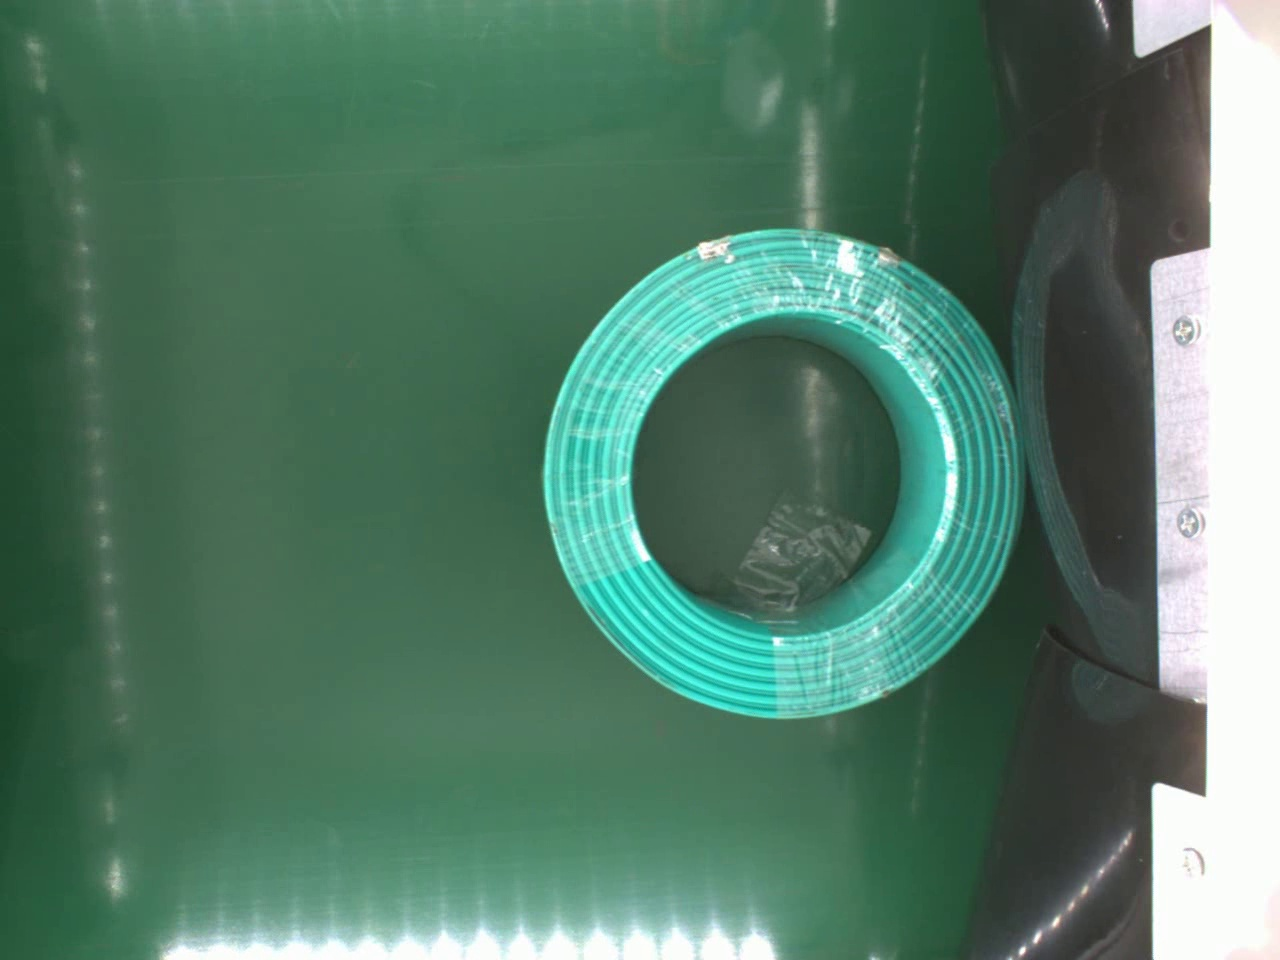green: (541, 222, 1046, 731)
